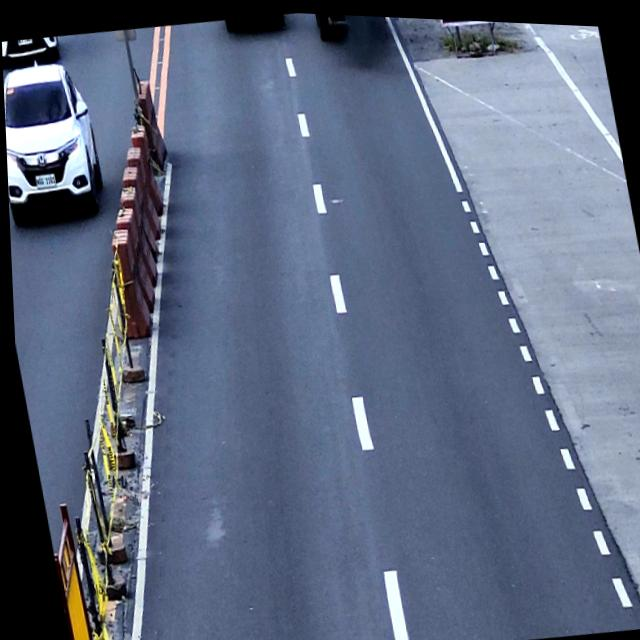Car: (2, 55, 107, 227), (1, 33, 62, 66)
License-Plate: (31, 170, 56, 190), (16, 38, 34, 47)
